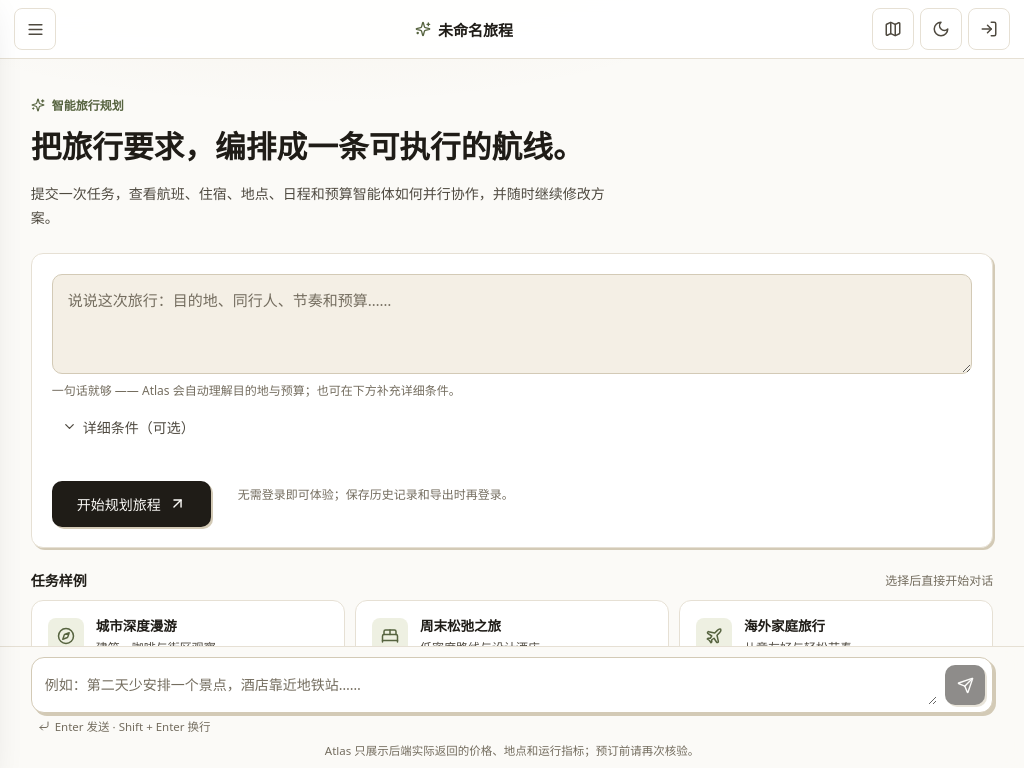
Test: Atlas page integration › tells guests their trip is kept as a local draft
Click the button "开始规划旅程" at (131, 504), box left=52, top=480, right=211, bottom=526
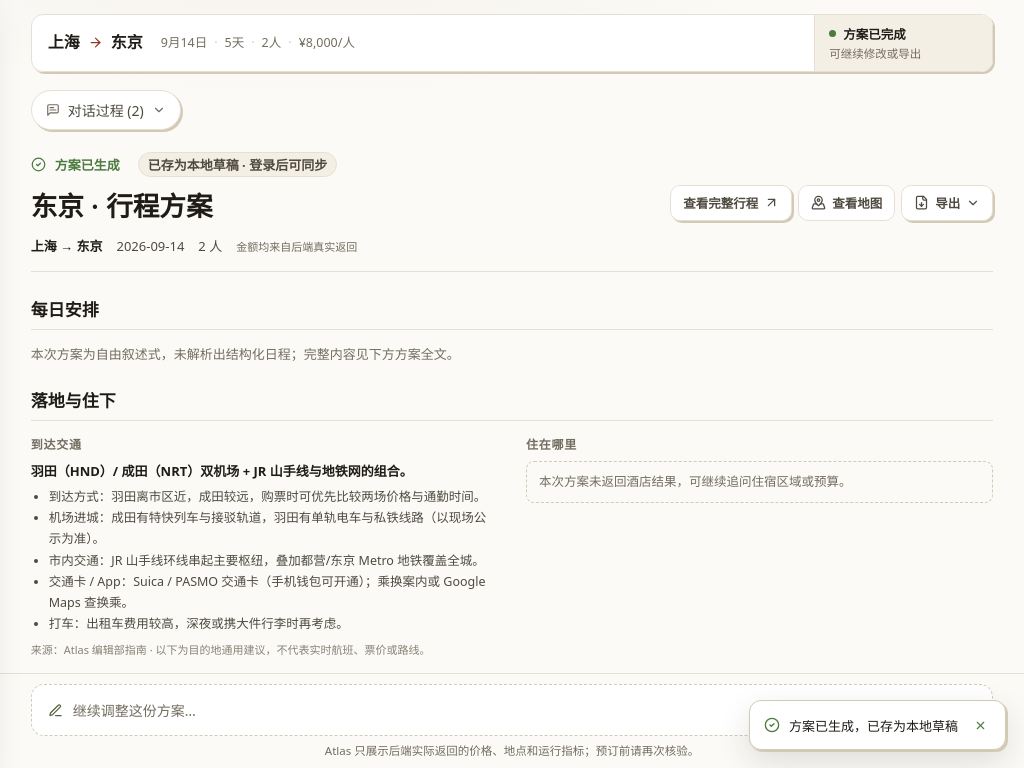
Check: the button "已存为本地草稿 · 登录后可同步" is shown, box left=138, top=152, right=337, bottom=177
